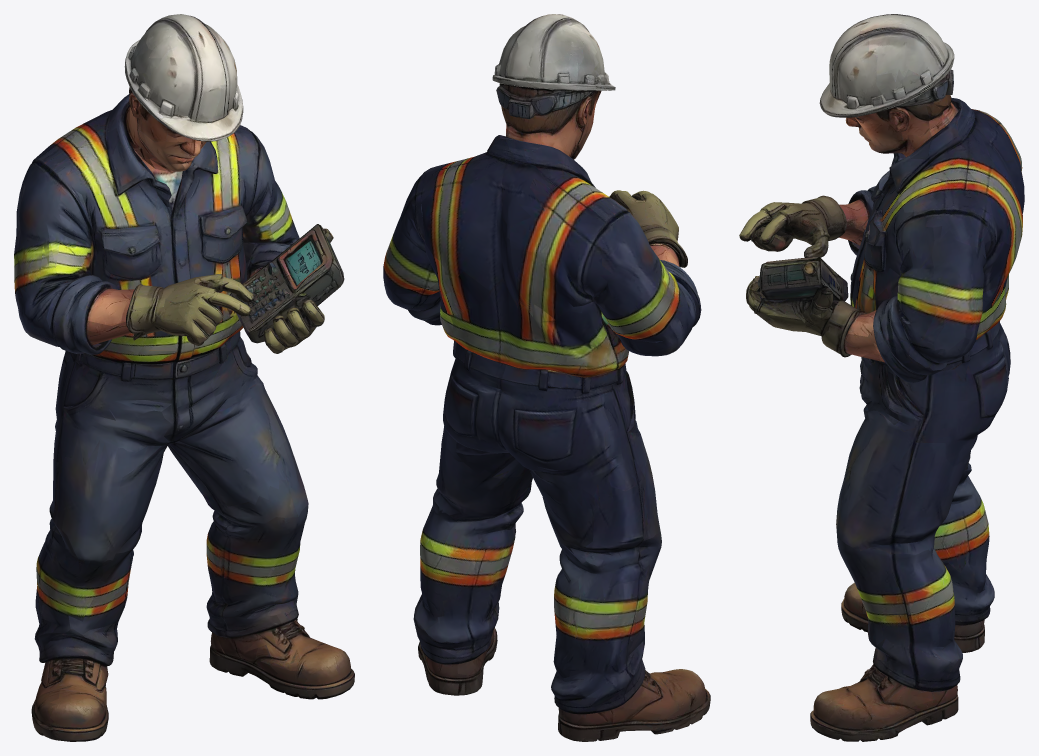
The model's file is worker_2.glb.
The picture shows the model from 3 angles, left to right: view 1: azimuth 30°, elevation 25°; view 2: azimuth 150°, elevation 25°; view 3: azimuth 270°, elevation 25°; orthographic projection. The views are drawn at different scales.
Bounding box in the file's own units: 0.8644 × 1.9 × 0.744.
1 material, 1 textured.
